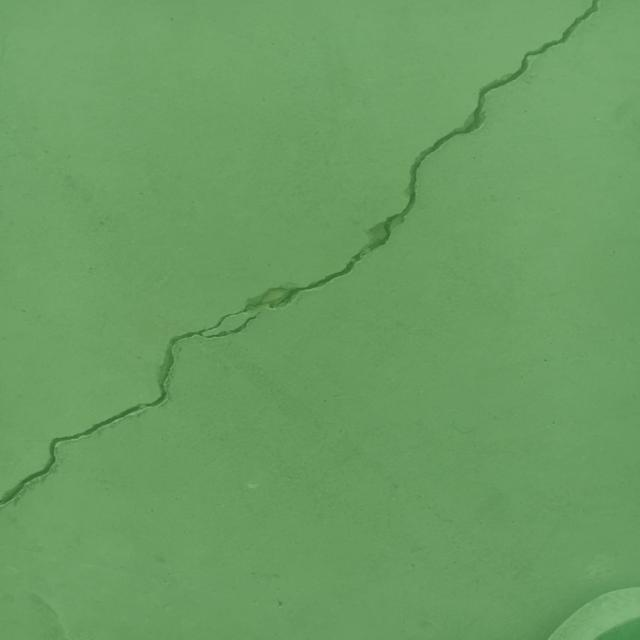crack: (0, 0, 599, 505)
